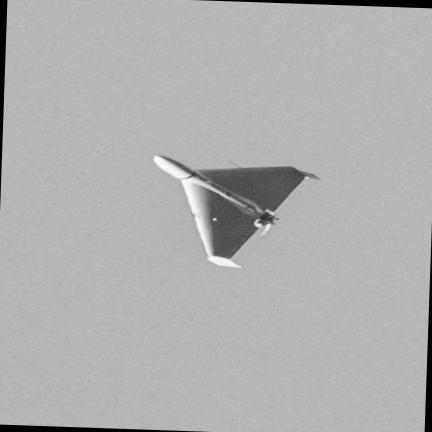Shahed: (154, 155, 318, 267)
